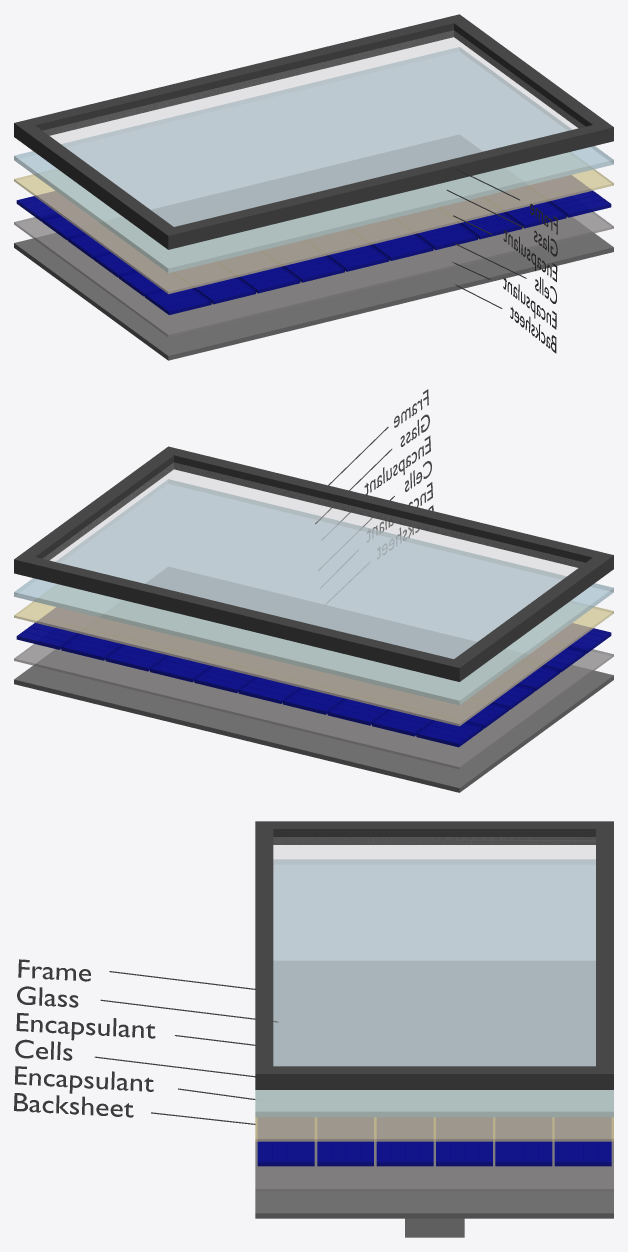
3 renders of one model, top to bottom at view 1: azimuth 30°, elevation 25°; view 2: azimuth 150°, elevation 25°; view 3: azimuth 270°, elevation 25°, orthographic. The views are drawn at different scales.
Visible parts, largest first — view 1: glass, interior, backsheet, frame, eva1, cell, eva2, Text; view 2: glass, interior, backsheet, frame, eva1, cell, eva2, Text; view 3: glass, interior, backsheet, frame, eva1, cell, eva2, Text, jbox.
Boxes of the visible parts, box(x1,y1,x2,y2) form: glass: box(14, 47, 613, 273); interior: box(44, 30, 584, 226); backsheet: box(14, 135, 613, 360); frame: box(14, 14, 613, 249); eva1: box(14, 152, 613, 294); cell: box(16, 175, 611, 314); eva2: box(14, 211, 613, 337); Text: box(503, 203, 557, 353); glass: box(14, 479, 613, 705); interior: box(43, 463, 584, 658); backsheet: box(14, 567, 613, 792); frame: box(14, 446, 613, 681); eva1: box(14, 584, 613, 726); cell: box(16, 607, 611, 747); eva2: box(14, 644, 613, 769); Text: box(364, 389, 433, 558); glass: box(255, 859, 613, 1117); interior: box(273, 837, 595, 1065); backsheet: box(255, 961, 613, 1218); frame: box(255, 821, 613, 1089); eva1: box(255, 1090, 613, 1141); cell: box(257, 1117, 611, 1166); eva2: box(255, 1118, 613, 1191); Text: box(14, 959, 155, 1117); jbox: box(405, 1218, 464, 1237).
Bounding box in the file's own units: 200 × 69.69 × 201.
